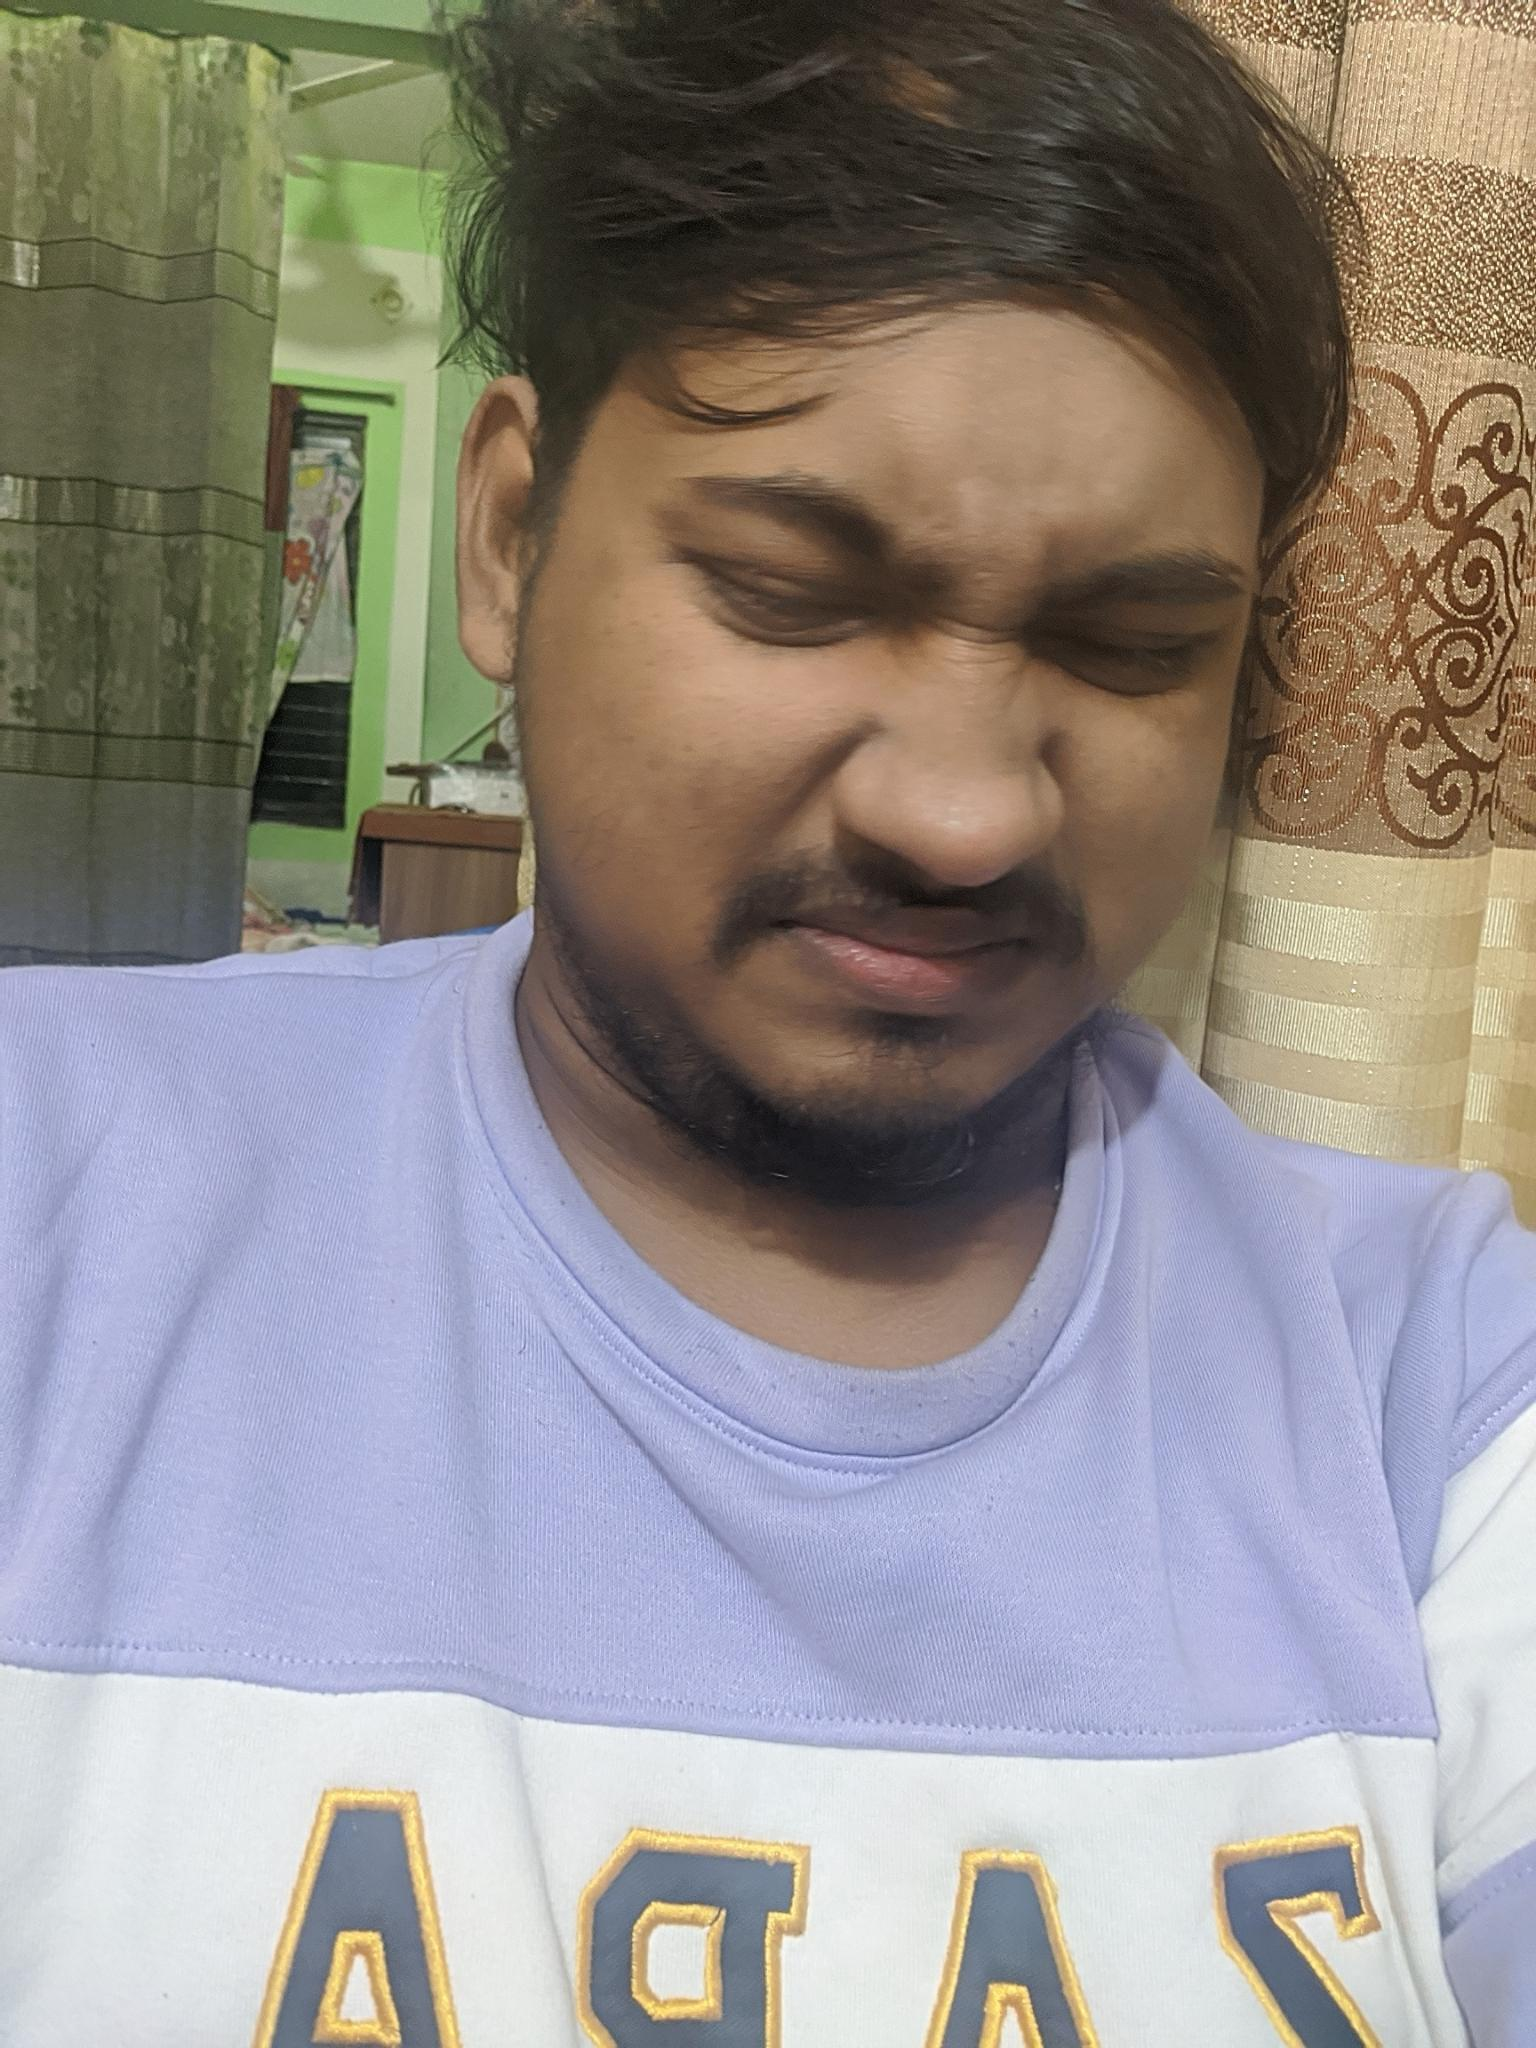Disgust: (647, 348, 1262, 1161)
